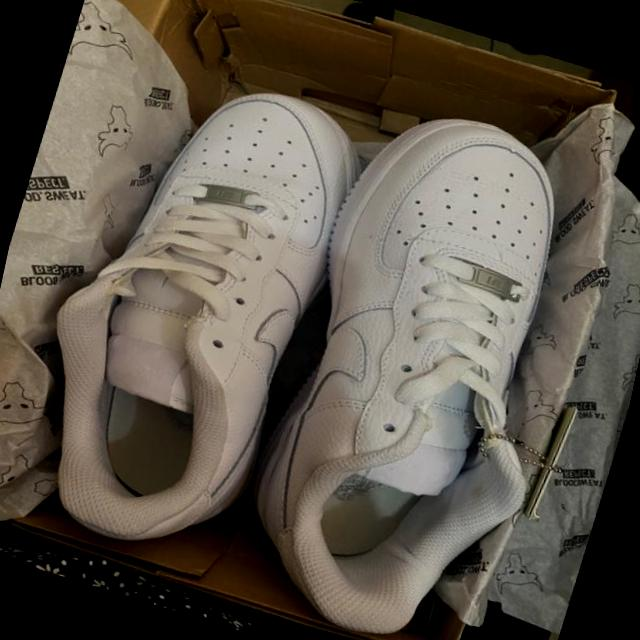nike_fake_airforce: (217, 79, 629, 640), (0, 36, 381, 625)
